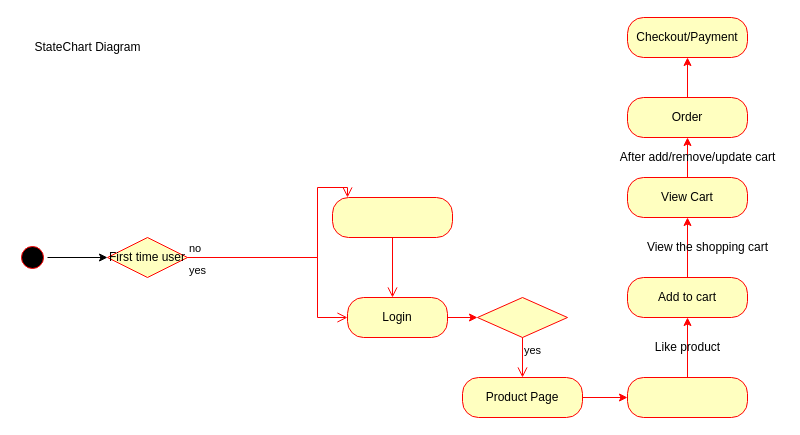
This 800x435 diagram has some shape labels left out. The shapes that lost their labels are listed below. From the top down, each one's centre as x and y in pixels, then its label:
At (x=392, y=217): "Register".
At (x=522, y=317): "Successfull".
At (x=687, y=397): "View item".
